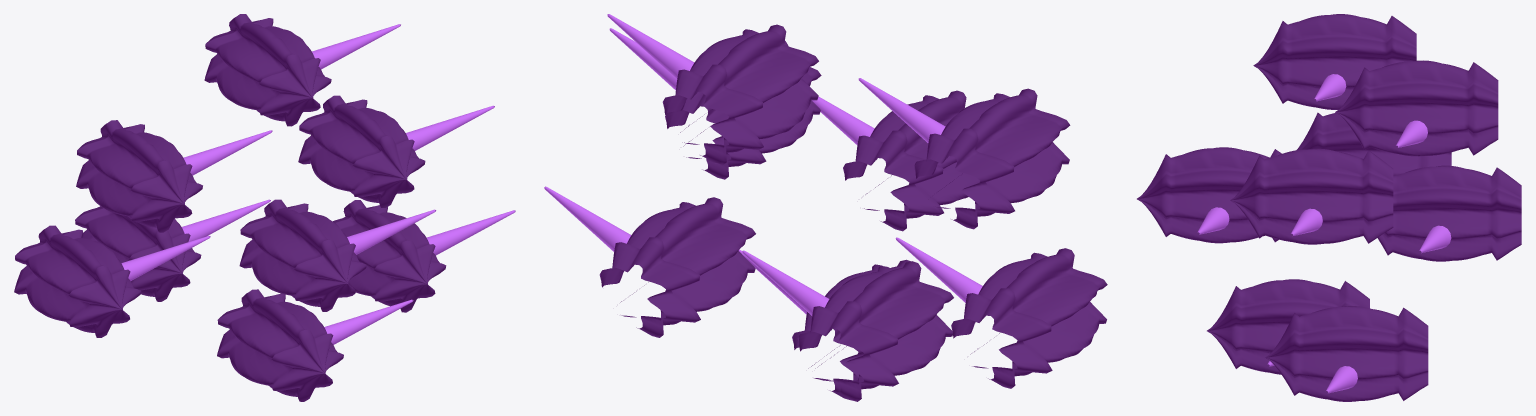
Rendered from voidborn_swarm.glb.
The picture shows the model from 3 angles, left to right: view 1: azimuth 30°, elevation 25°; view 2: azimuth 150°, elevation 25°; view 3: azimuth 270°, elevation 25°; orthographic projection. The views are drawn at different scales.
Parts seen in each view (by area): view 1: voidborn_swarm; view 2: voidborn_swarm; view 3: voidborn_swarm.
Boxes of the visible parts, x1,y1,x2,y2 form: voidborn_swarm: (14, 14, 515, 401); voidborn_swarm: (544, 14, 1107, 401); voidborn_swarm: (1137, 14, 1521, 401).
Bounding box in the file's own units: 2.48 × 1.58 × 1.65.
